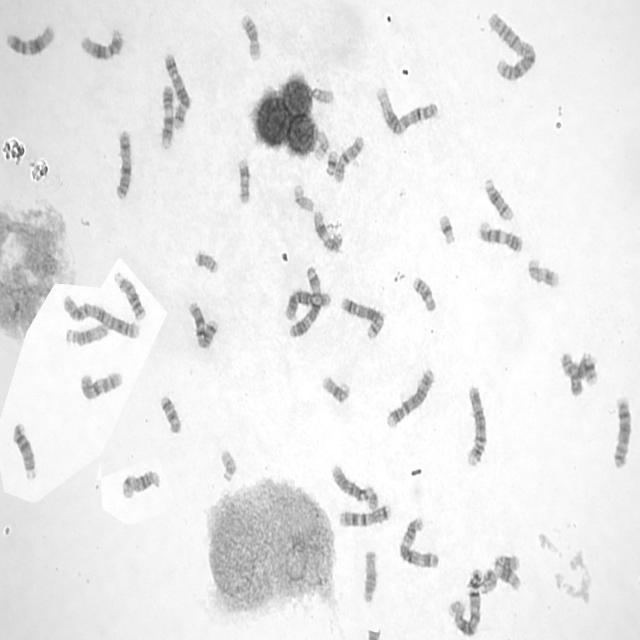A1: (374, 83, 439, 137), (448, 568, 482, 640)
A2: (60, 292, 142, 341), (485, 8, 538, 83)
A3: (287, 263, 323, 339), (397, 513, 441, 570)
B4: (384, 365, 435, 430), (463, 382, 488, 468)
B5: (338, 294, 386, 342), (162, 49, 191, 128)
C10: (331, 132, 366, 185), (78, 368, 124, 402)
C11: (312, 207, 344, 254), (492, 552, 522, 592)
C12: (3, 22, 57, 57), (78, 26, 125, 61)
C6: (329, 461, 380, 511), (282, 287, 332, 322)
C7: (186, 298, 218, 350), (336, 500, 392, 528)
C8: (611, 394, 633, 470), (558, 353, 600, 385)
C9: (476, 218, 524, 254), (158, 83, 175, 151)
D13: (112, 268, 147, 322), (10, 419, 38, 482)
D14: (482, 175, 515, 222), (119, 466, 162, 500)
D15: (63, 319, 110, 347), (359, 547, 378, 605)
E16: (238, 10, 262, 62), (319, 372, 352, 406)
E17: (525, 254, 561, 290), (235, 156, 251, 207)
E18: (157, 392, 183, 435), (410, 273, 437, 314)
F19: (291, 180, 315, 213), (311, 129, 330, 161)
F20: (192, 247, 220, 275), (478, 568, 498, 596)
G21: (436, 210, 457, 246), (323, 147, 339, 178)
G22: (218, 446, 237, 484), (568, 364, 585, 394)
X: (113, 127, 133, 201)
Y: (311, 86, 334, 105)
